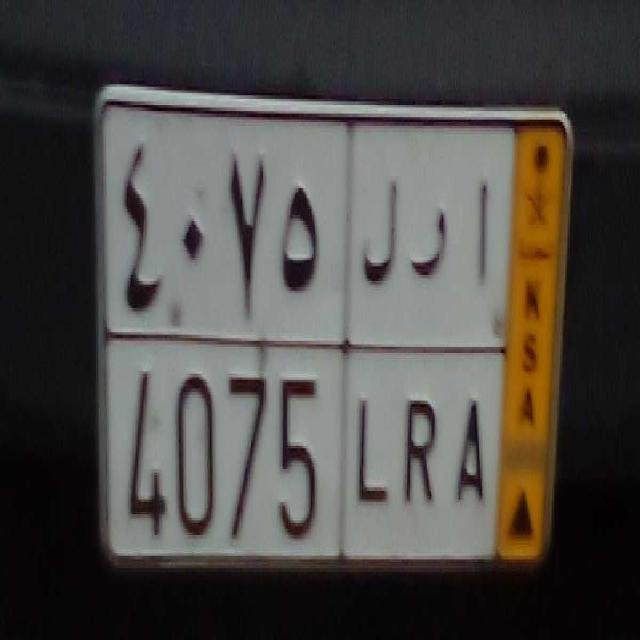license_plate: (100, 320, 504, 574)
